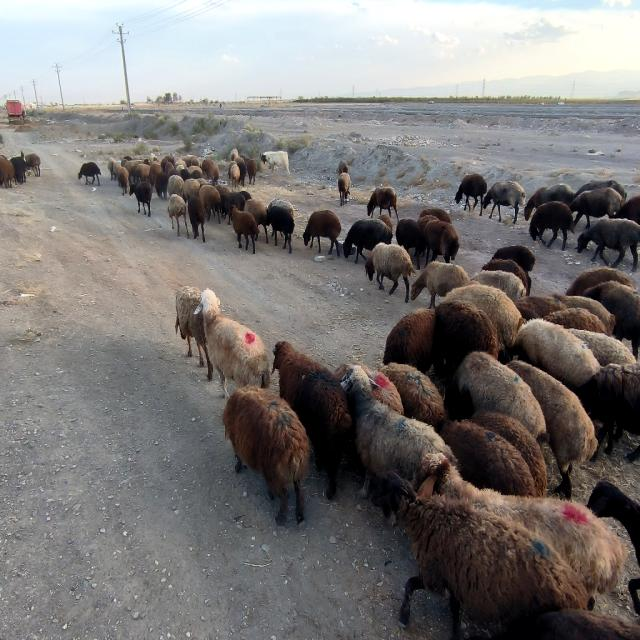sheep: (374, 472, 588, 634), (414, 453, 628, 598), (341, 365, 455, 496), (272, 342, 352, 498), (508, 362, 598, 500), (222, 387, 309, 523), (454, 352, 546, 438), (199, 288, 270, 396), (440, 420, 536, 496), (469, 412, 546, 497), (514, 318, 600, 392), (576, 365, 640, 454), (445, 285, 525, 349), (434, 300, 498, 375), (380, 363, 445, 432), (584, 282, 640, 358), (335, 362, 404, 415), (382, 308, 436, 372), (175, 287, 212, 379), (578, 220, 640, 271), (365, 243, 415, 302), (410, 262, 471, 308), (552, 293, 616, 335), (568, 328, 636, 367), (529, 202, 575, 249), (569, 188, 622, 228), (344, 220, 392, 262), (566, 267, 635, 296), (524, 183, 575, 219), (482, 258, 531, 295), (302, 210, 341, 256), (471, 270, 526, 301), (483, 182, 525, 222), (544, 308, 606, 334), (230, 205, 259, 252), (266, 207, 295, 252), (515, 295, 566, 320), (492, 245, 536, 273), (455, 173, 488, 210), (575, 180, 628, 201), (244, 200, 269, 242), (368, 187, 399, 219), (168, 195, 189, 238), (199, 185, 220, 222), (188, 197, 205, 241), (615, 195, 640, 224), (221, 192, 245, 222), (130, 182, 151, 216), (266, 198, 295, 218), (201, 157, 220, 185), (78, 162, 101, 185), (10, 152, 26, 183), (0, 155, 15, 188), (338, 172, 351, 204), (184, 178, 201, 201), (235, 157, 248, 187), (25, 153, 41, 177), (155, 172, 168, 198), (168, 175, 184, 196), (149, 162, 162, 187), (246, 158, 258, 185), (118, 167, 129, 195), (136, 163, 150, 182), (182, 155, 201, 168), (230, 163, 240, 187), (216, 183, 231, 198), (166, 163, 180, 178), (108, 157, 116, 180), (111, 162, 121, 180), (338, 160, 349, 174), (240, 190, 251, 201)
